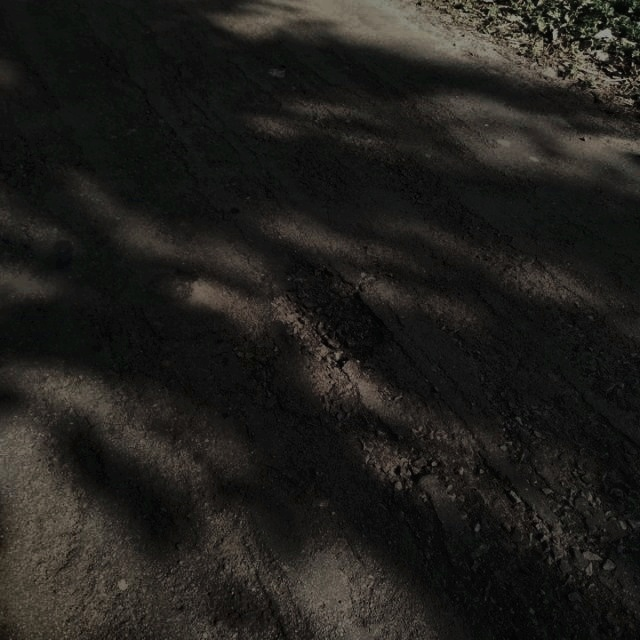Pothole: (268, 258, 392, 370)
